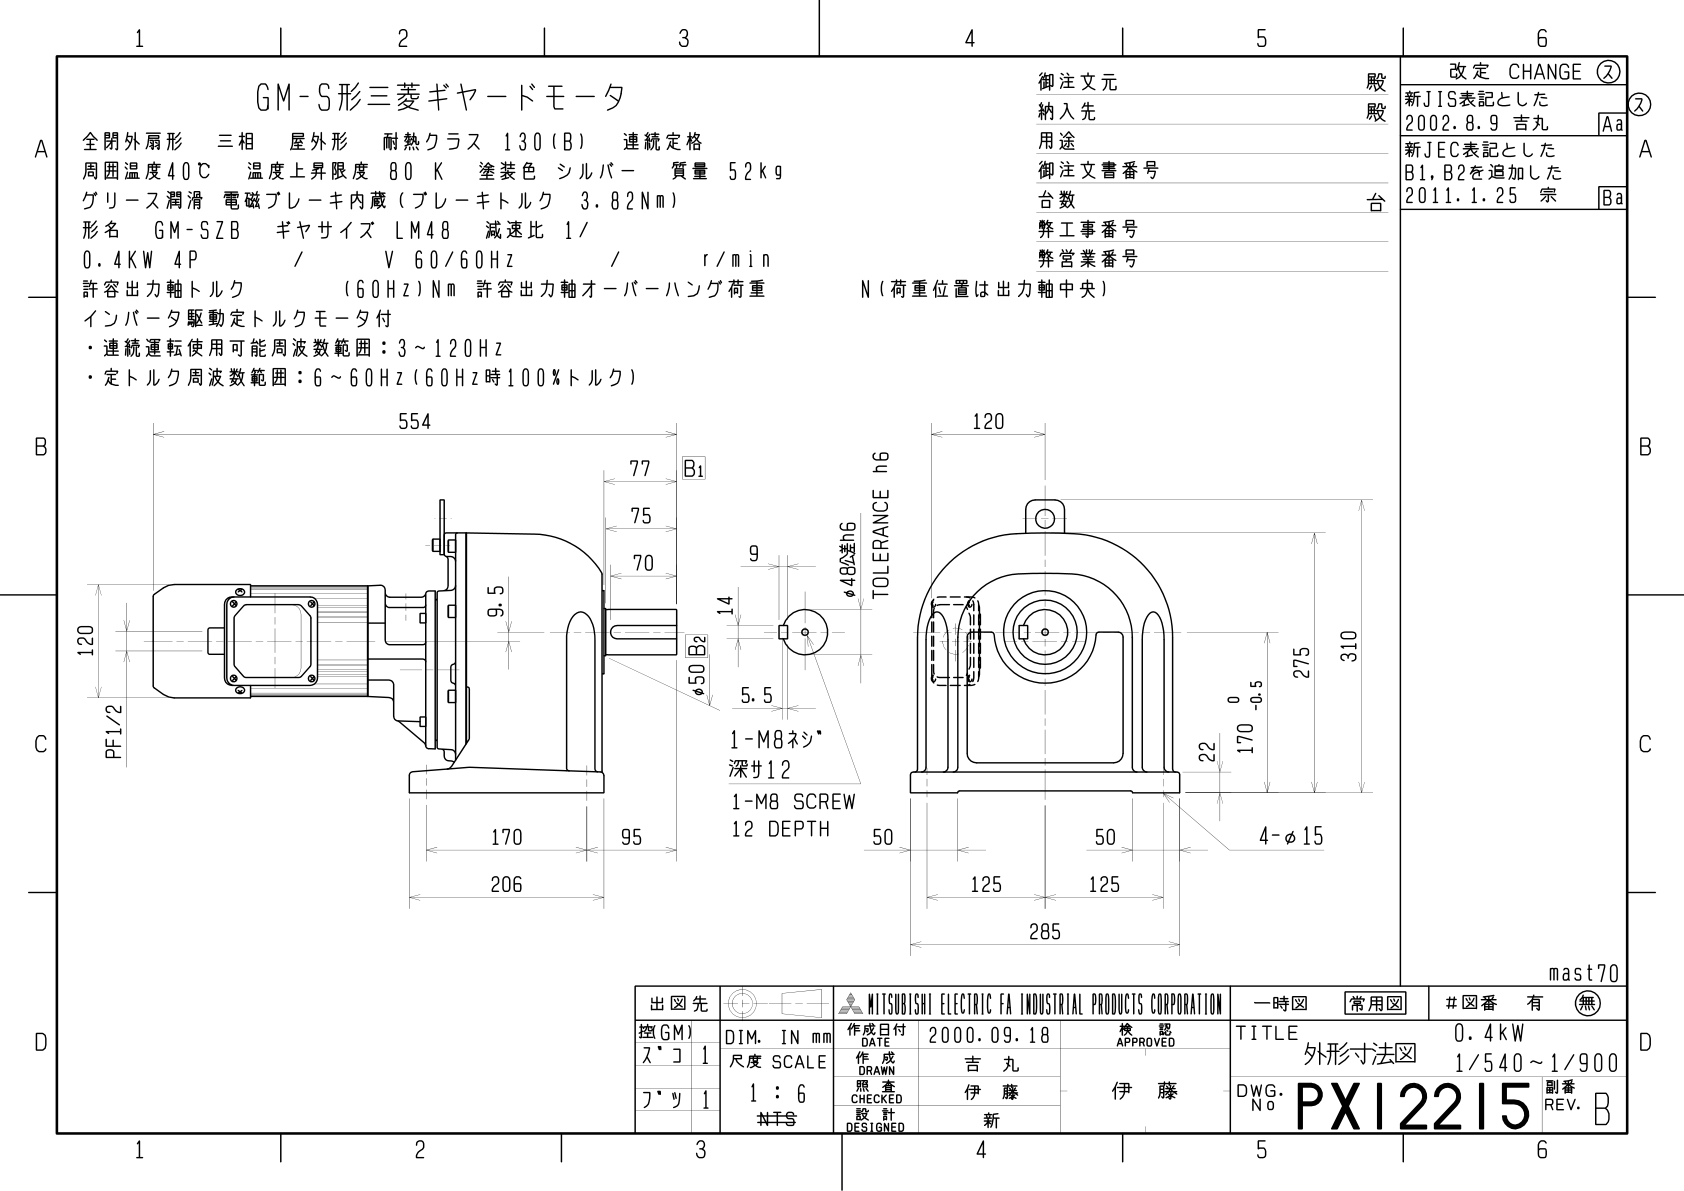GM_S_インバタ屋外＿三相_脚: (64, 392, 1385, 962)
